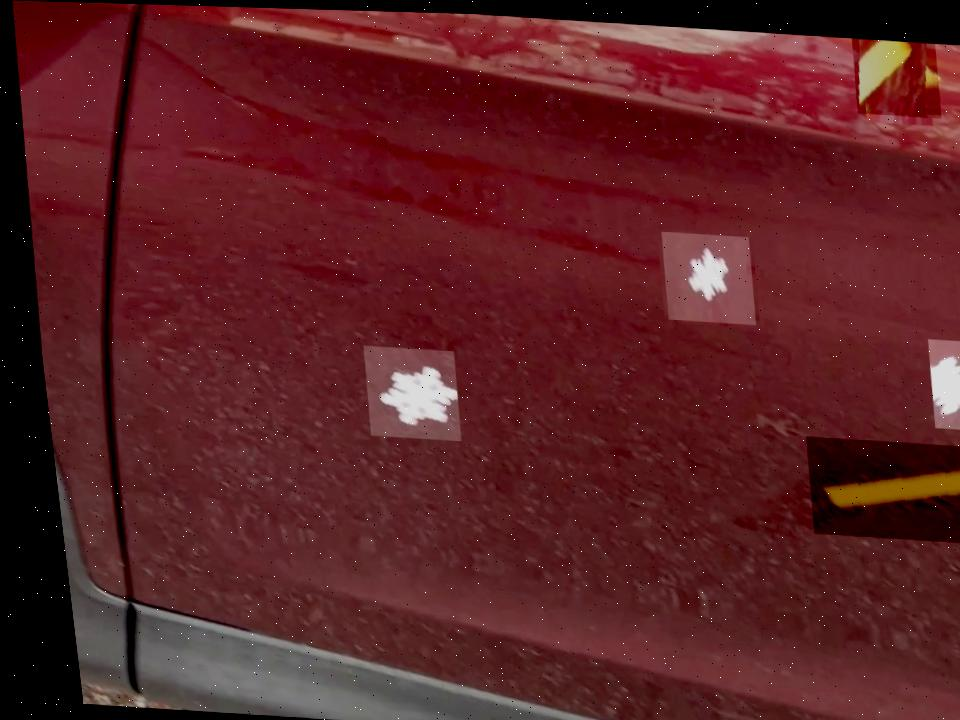dent: (351, 343, 453, 439), (653, 227, 751, 320), (917, 333, 960, 425)
scratch: (793, 431, 960, 540), (849, 32, 942, 112)
